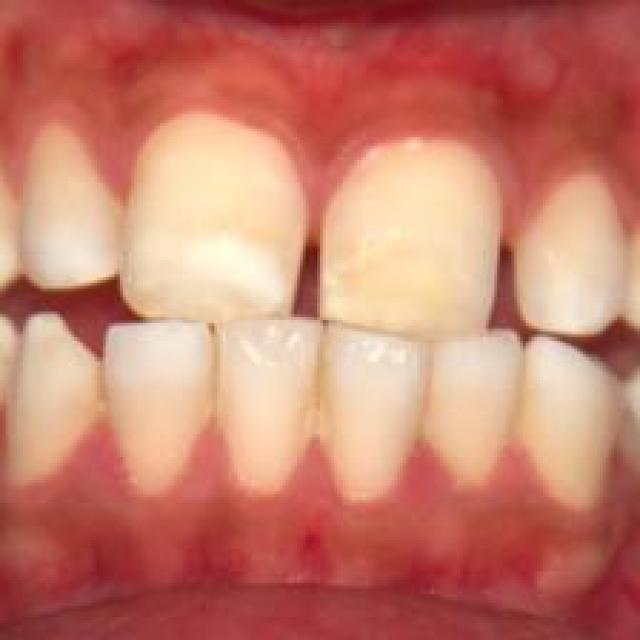cavity: (297, 357, 334, 434), (77, 372, 126, 414)
